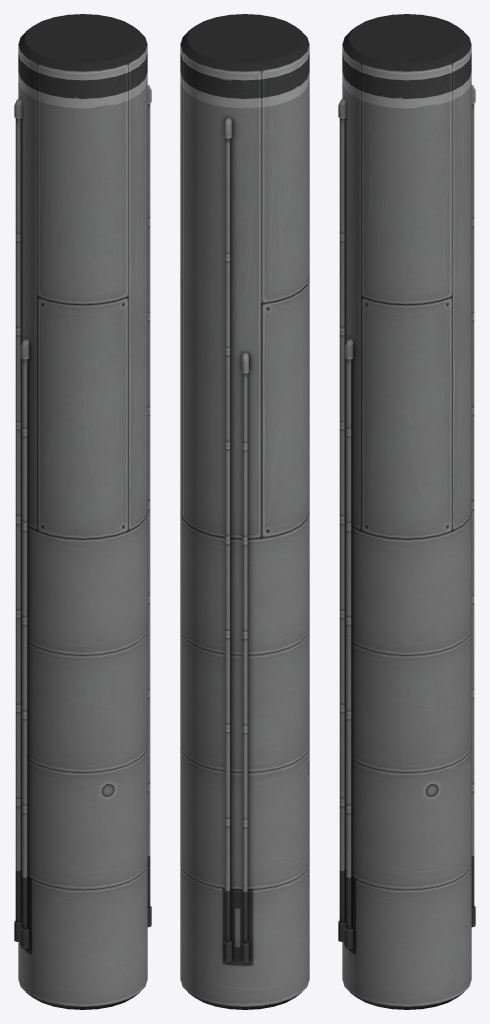
Rendered from Knight_FuelTank_0_1.obj.
3 renders of one model, left to right at view 1: azimuth 90°, elevation 25°; view 2: azimuth 150°, elevation 25°; view 3: azimuth 270°, elevation 25°, orthographic.
Visible parts, largest first — view 1: Knight_FuelTank_0_1; view 2: Knight_FuelTank_0_1; view 3: Knight_FuelTank_0_1.
Part boxes in pixels (x1,y1,x2,y2): Knight_FuelTank_0_1: (14,14,151,1009); Knight_FuelTank_0_1: (180,14,309,1009); Knight_FuelTank_0_1: (338,14,475,1009).
Size of the model in its own units: 0.625 by 5.06 by 0.6641.
